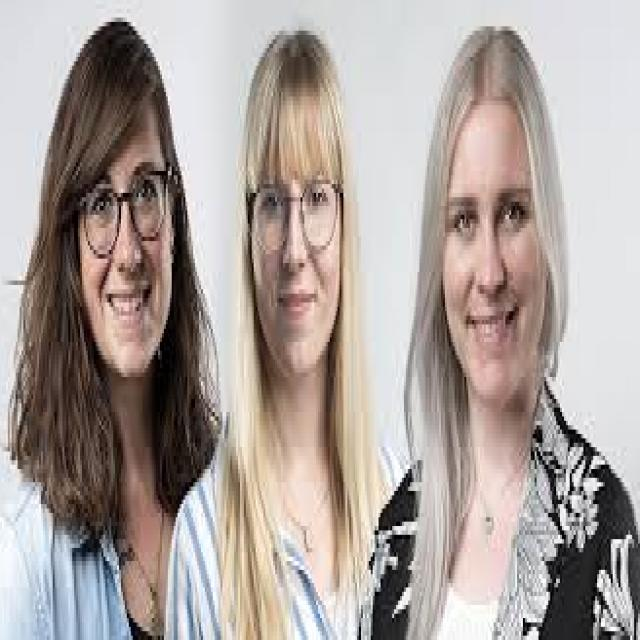Glasses: (80, 159, 174, 264), (249, 176, 344, 259)
